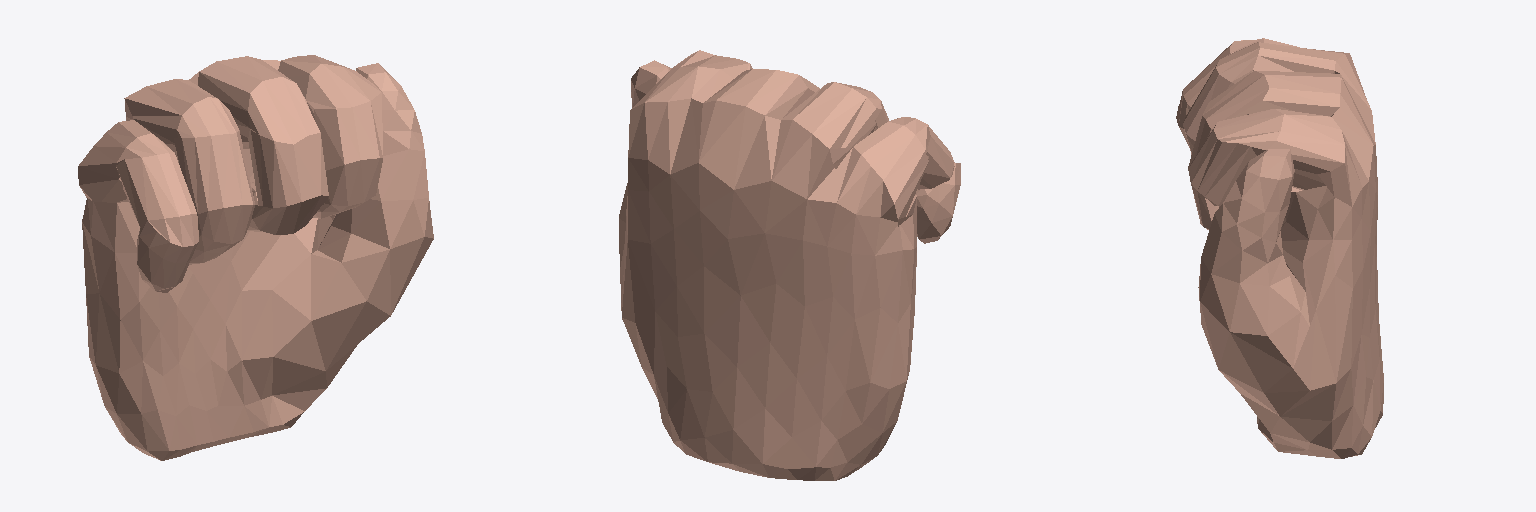
Rendered from MAO_A.obj.
3 renders of one model, left to right at view 1: azimuth 30°, elevation 25°; view 2: azimuth 150°, elevation 25°; view 3: azimuth 270°, elevation 25°, orthographic.
Parts seen in each view (by area): view 1: mao_dir:mao_dir; view 2: mao_dir:mao_dir; view 3: mao_dir:mao_dir.
Part boxes in pixels (left/top/right/bottom): mao_dir:mao_dir: left=78, top=55, right=433, bottom=460; mao_dir:mao_dir: left=619, top=50, right=960, bottom=480; mao_dir:mao_dir: left=1176, top=38, right=1383, bottom=458.
Size of the model in its own units: 136 by 151 by 78.56.